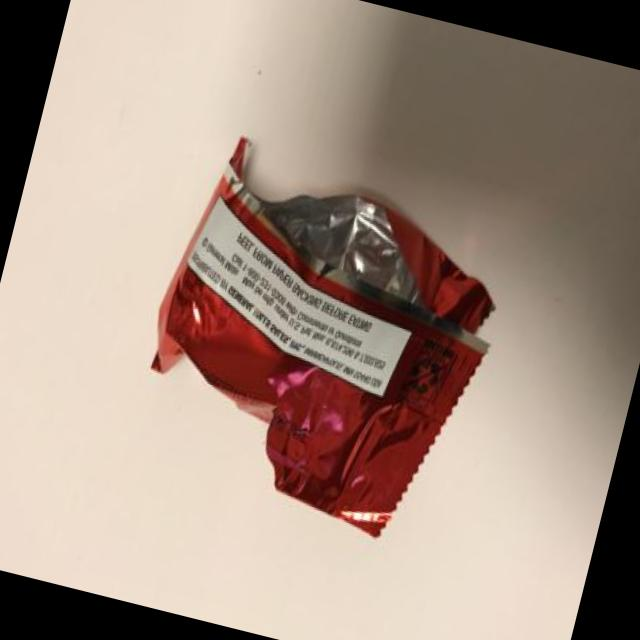giay_goi: (151, 138, 495, 537)
